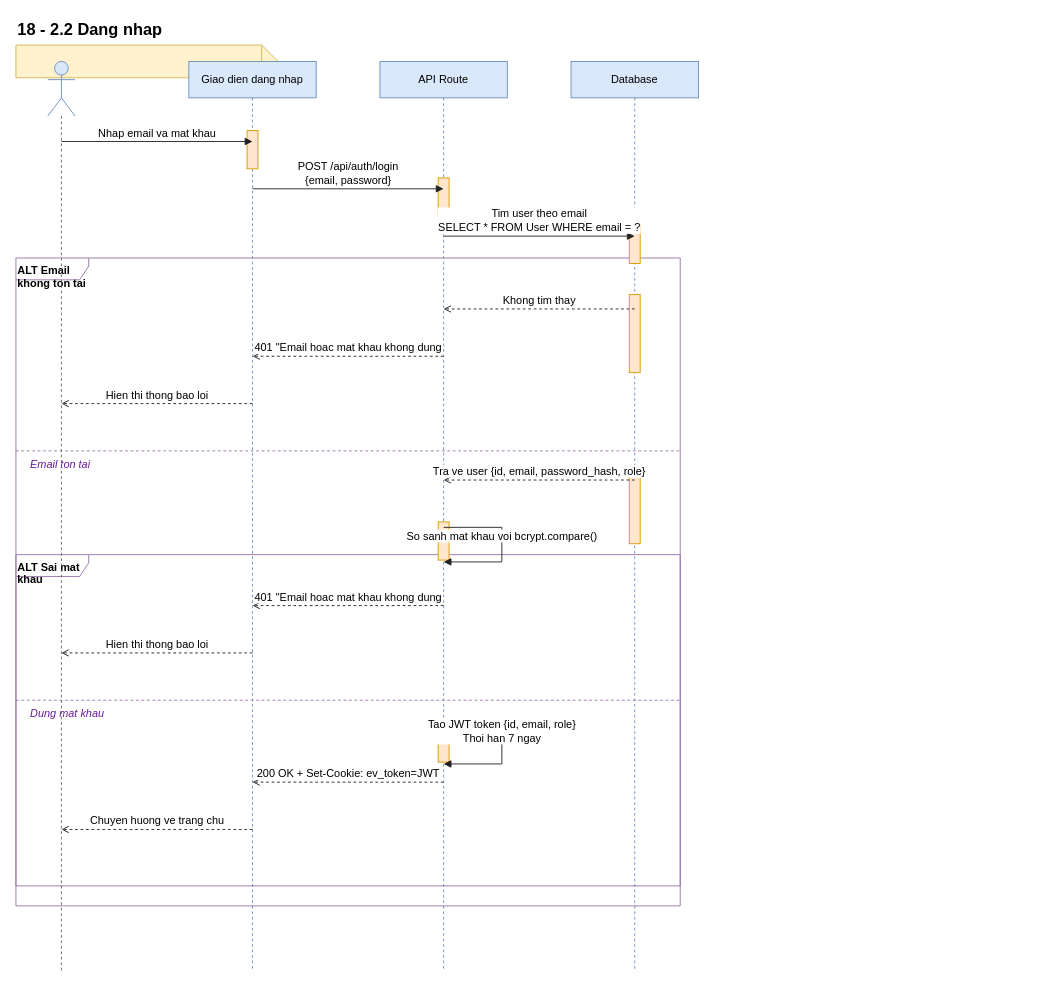
This 1051x988 diagram has some shape labels left out. Each missing label, with the centre of its shape:
"Khach vang lai" belongs at point 61,88.
"Mermaid sequence source: PHAN_TICH_THIET_KE_HE_THONG.md:895" belongs at point 152,61.
